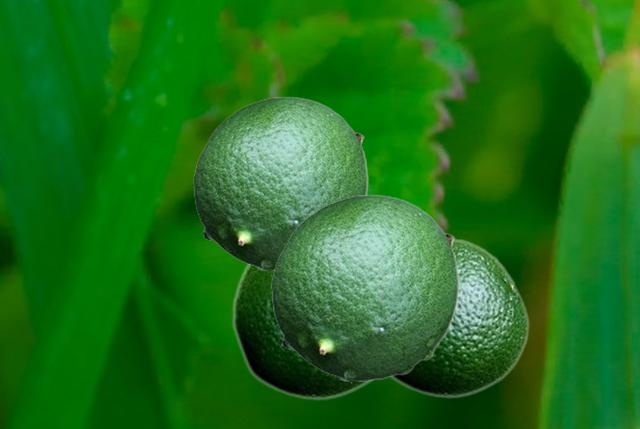calamansi: (271, 194, 458, 380), (193, 96, 367, 269), (389, 237, 529, 398), (231, 264, 375, 400)
